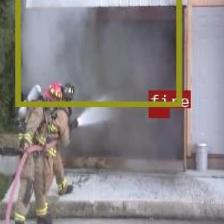fire: (148, 108, 168, 116)
smoke: (15, 0, 180, 106)
